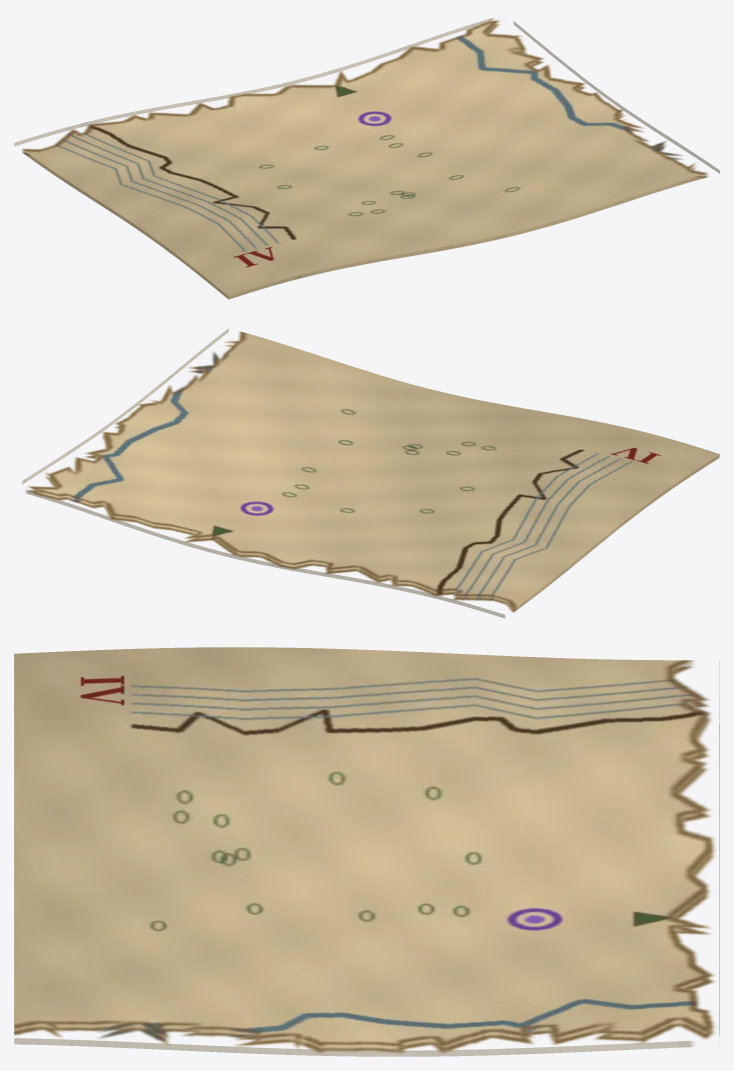
Rendered from kartenstueck_4.glb.
The picture shows the model from 3 angles, top to bottom: view 1: azimuth 30°, elevation 25°; view 2: azimuth 150°, elevation 25°; view 3: azimuth 270°, elevation 25°; orthographic projection. The views are drawn at different scales.
Visible parts, largest first — view 1: kartenstueck_4; view 2: kartenstueck_4; view 3: kartenstueck_4.
Boxes of the visible parts, x1,y1,x2,y2 form: kartenstueck_4: (14, 18, 719, 299); kartenstueck_4: (22, 328, 719, 618); kartenstueck_4: (14, 647, 719, 1056).
Size of the model in its own units: 0.2083 by 0.00949 by 0.1575.
1 material, 1 textured.
